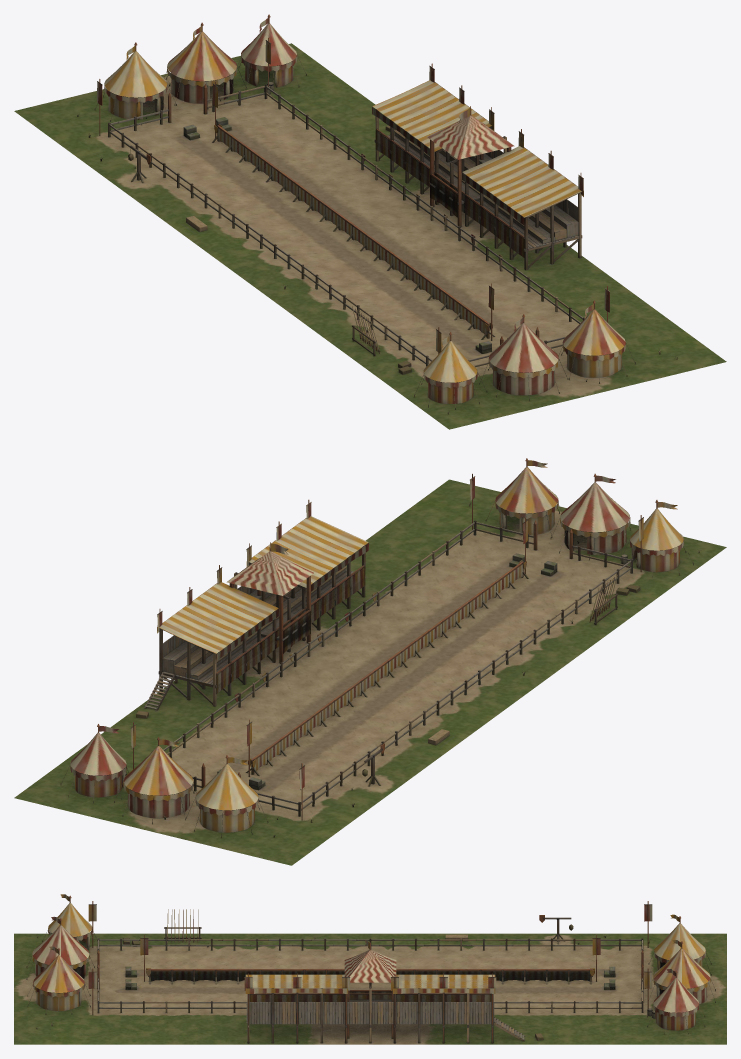
Rendered from lists.glb.
3 views of the same model, one above another, from view 1: azimuth 30°, elevation 25°; view 2: azimuth 150°, elevation 25°; view 3: azimuth 270°, elevation 25° (orthographic). The views are drawn at different scales.
Parts seen in each view (by area): view 1: lists_LOD0; view 2: lists_LOD0; view 3: lists_LOD0.
Part boxes in pixels (left/top/right/bottom): lists_LOD0: left=14, top=14, right=726, bottom=429; lists_LOD0: left=14, top=458, right=726, bottom=865; lists_LOD0: left=14, top=894, right=726, bottom=1044.
Size of what is drawn, in the model's own units: 28 by 10.2 by 76.
Materials: 1 (1 with a texture image).
